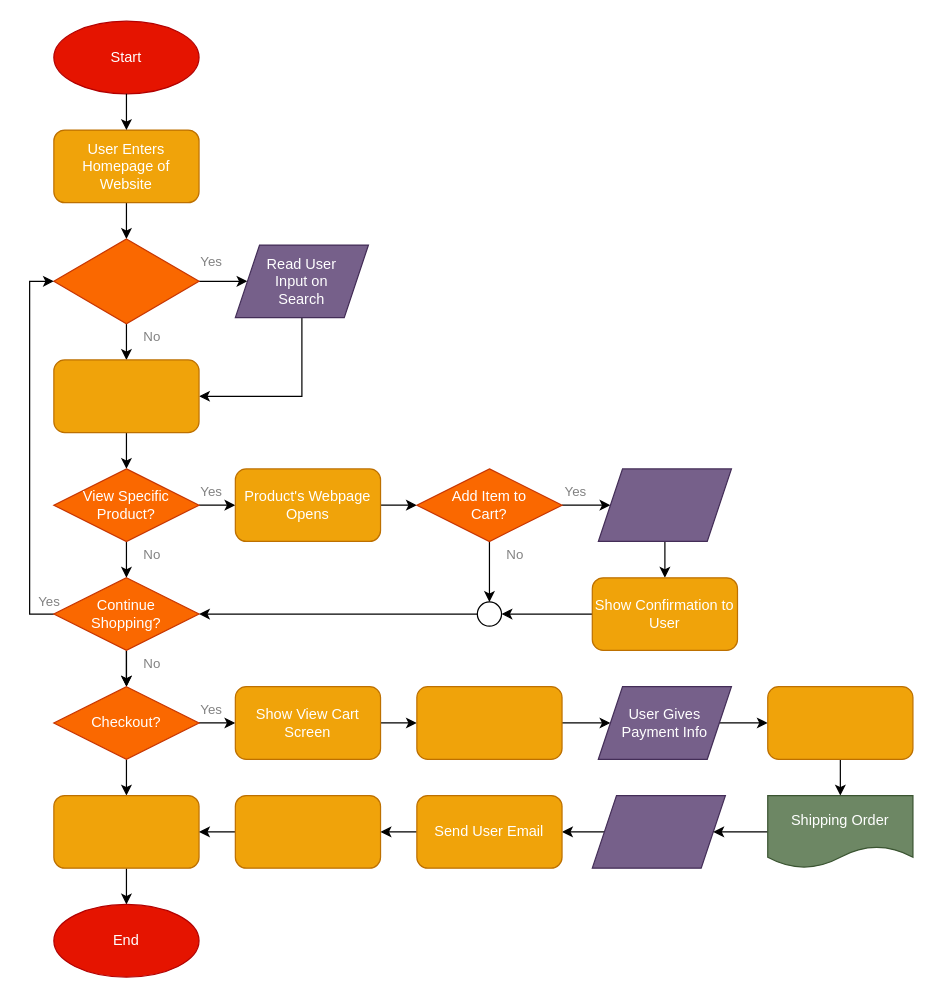
The diagram is 934 pixels wide and 998 high, and some of its shapes have lost their labels. Here are the shapes that lost their labels. From the top down, the box of each, then its label:
(53, 238, 199, 324): Searches for Product?
(53, 359, 199, 433): User Looks over Products
(597, 468, 731, 541): Add Item to Cart
(416, 685, 562, 759): Show Payment Screen
(767, 685, 913, 759): User Pays
(53, 794, 199, 868): User Leave's Website
(234, 794, 381, 868): Show Order Confirmation
(591, 794, 725, 868): Shipping Order is Sent Out
